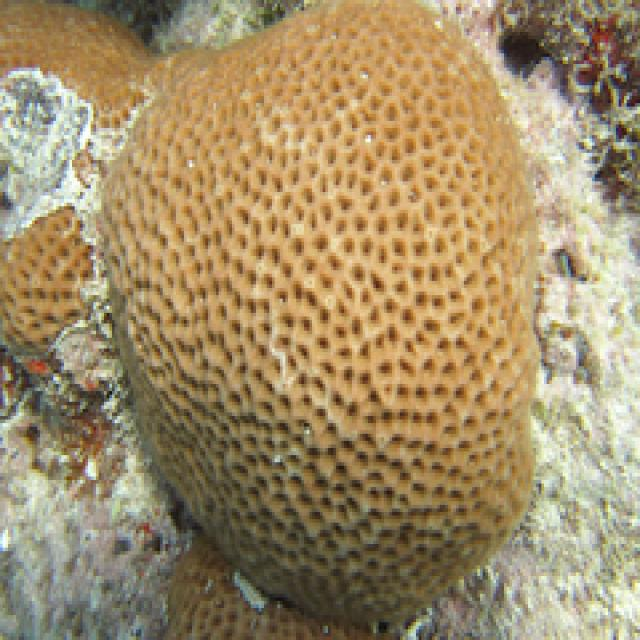Coral: (105, 0, 541, 640), (0, 0, 155, 362)
